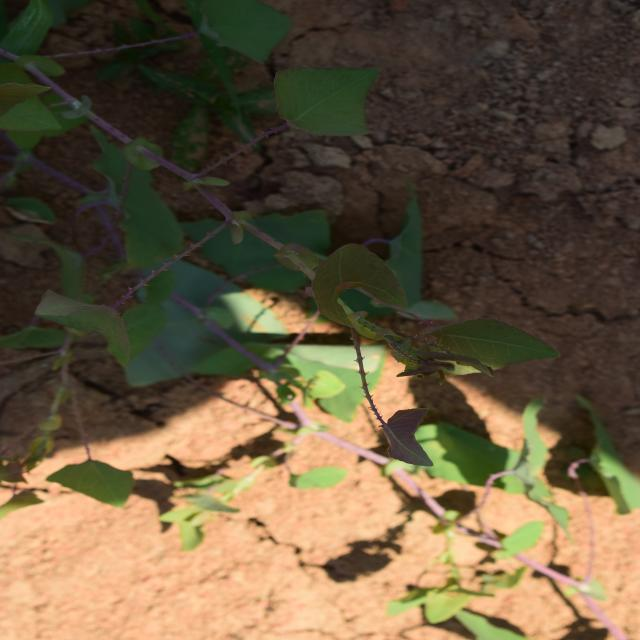Asiatic_Smartweed: (218, 257, 432, 534), (234, 48, 442, 236), (466, 234, 592, 394)
